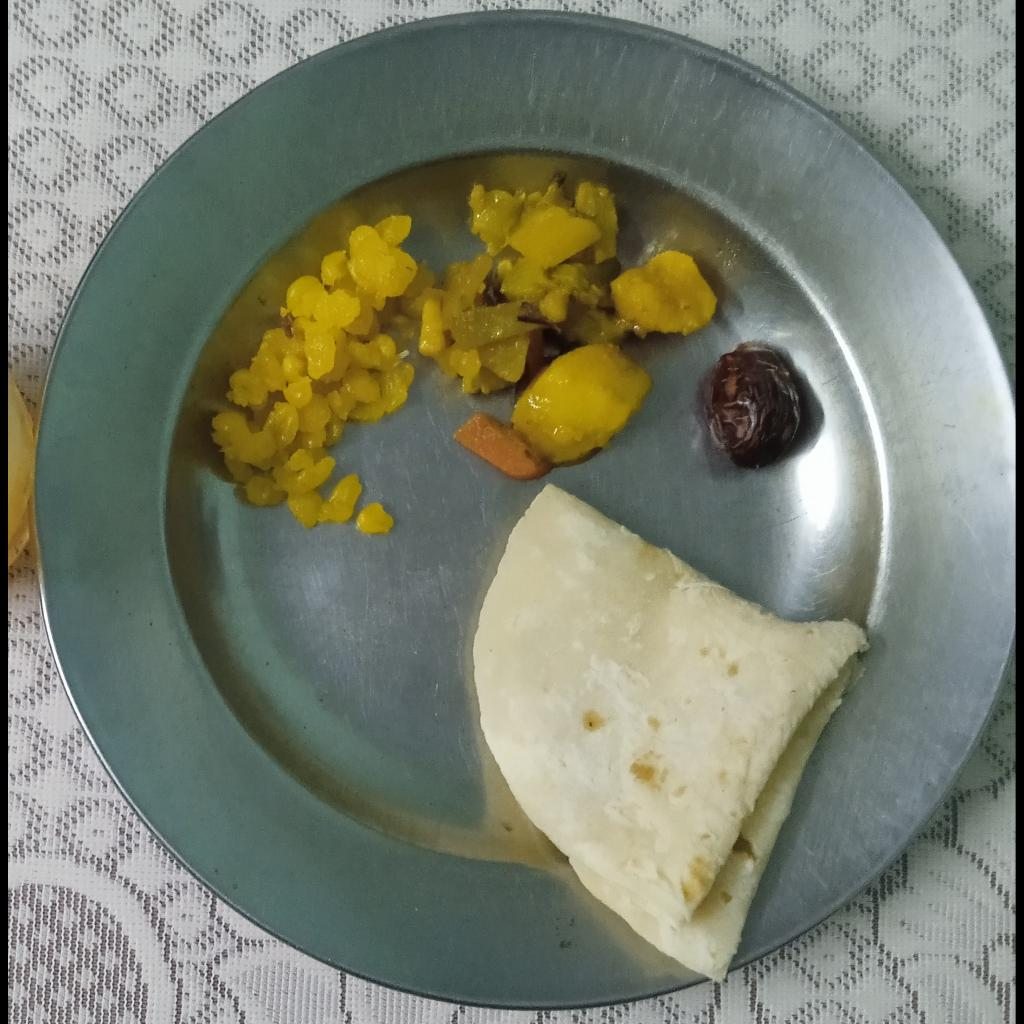burinda: (215, 214, 434, 535)
dates: (702, 343, 801, 471)
ruti: (474, 482, 874, 987)
vegetable: (420, 178, 718, 477)
